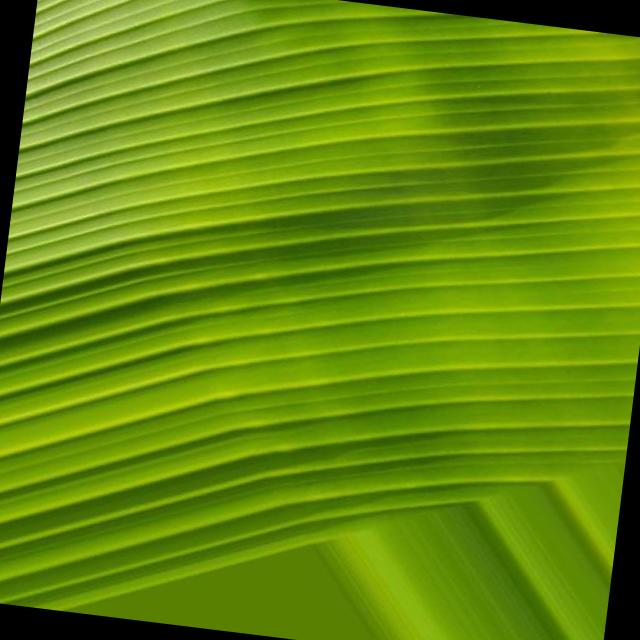Banana_Healthy: (92, 45, 552, 462)
